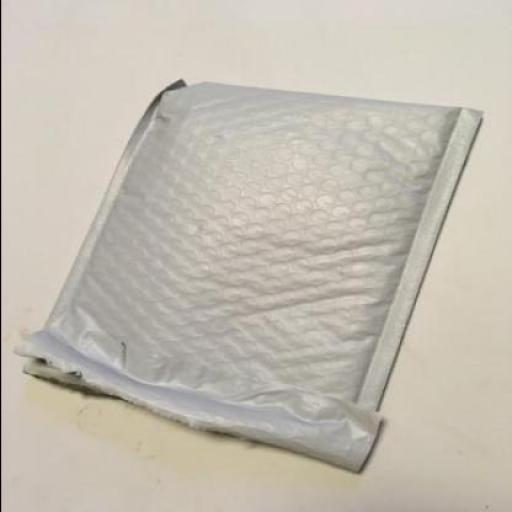plastic: (14, 78, 484, 470)
